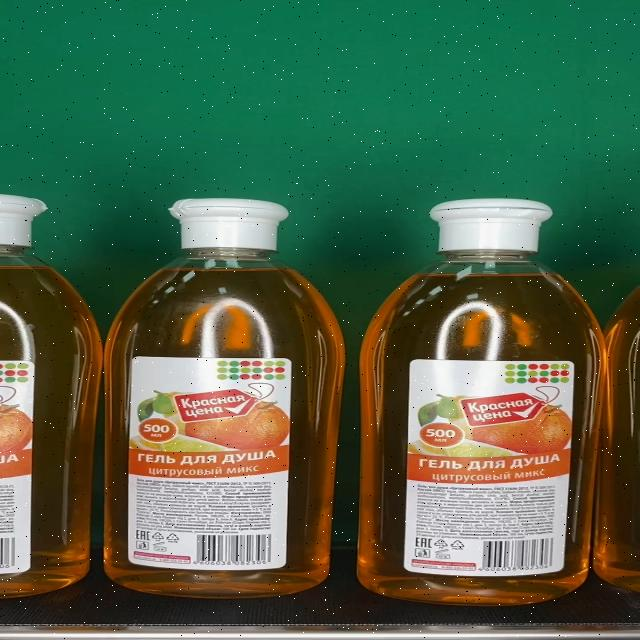Bottle: (358, 199, 606, 605), (101, 198, 347, 600)
Cap: (428, 199, 554, 252), (170, 198, 290, 249)
